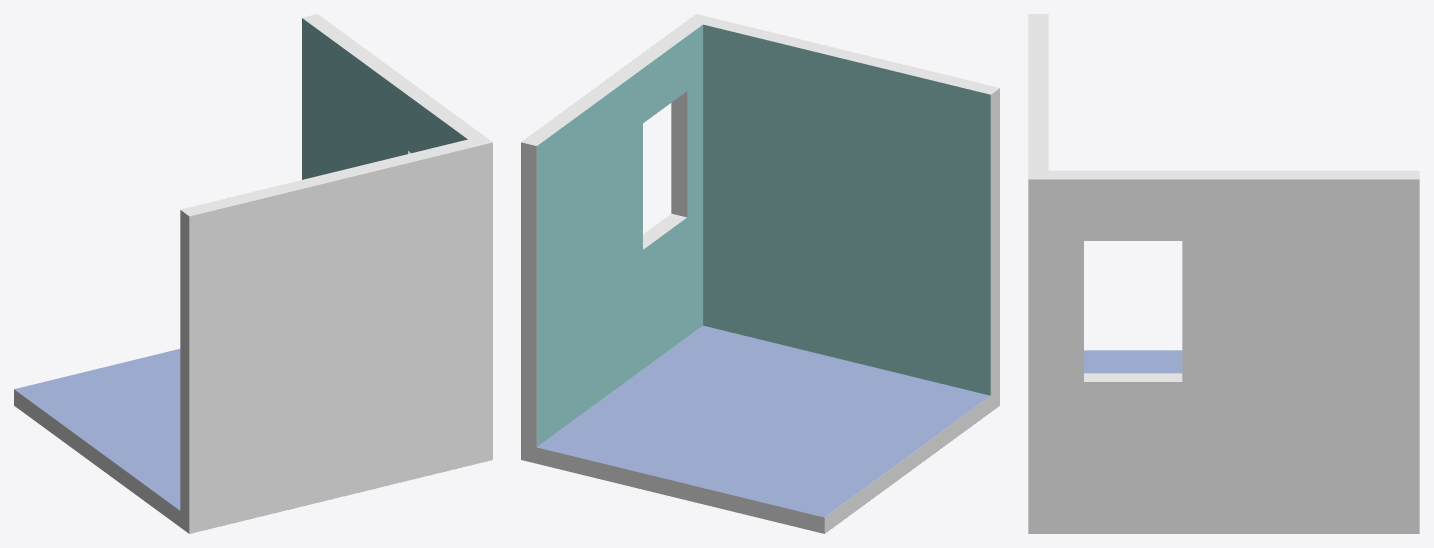
Rendered from 3D Portfolio.glb.
3 renders of one model, left to right at view 1: azimuth 30°, elevation 25°; view 2: azimuth 150°, elevation 25°; view 3: azimuth 270°, elevation 25°, orthographic. The views are drawn at different scales.
Visible parts, largest first — view 1: Room Wall; view 2: Room Wall; view 3: Room Wall.
Boxes of the visible parts, x1,y1,x2,y2 form: Room Wall: (14,14,492,533); Room Wall: (521,14,999,533); Room Wall: (1028,14,1419,533).
Size of the model in its own units: 19.83 by 19.83 by 19.83.
